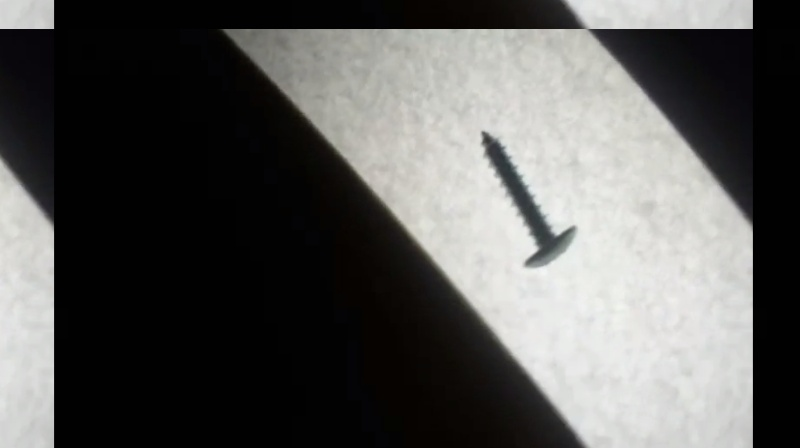S003: (477, 126, 578, 272)
